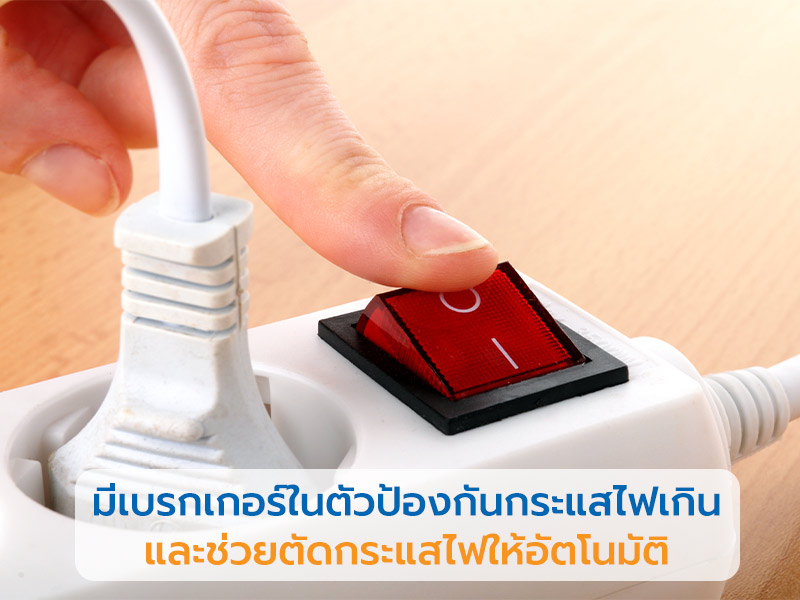Three_eye_plug: (1, 235, 735, 600)
